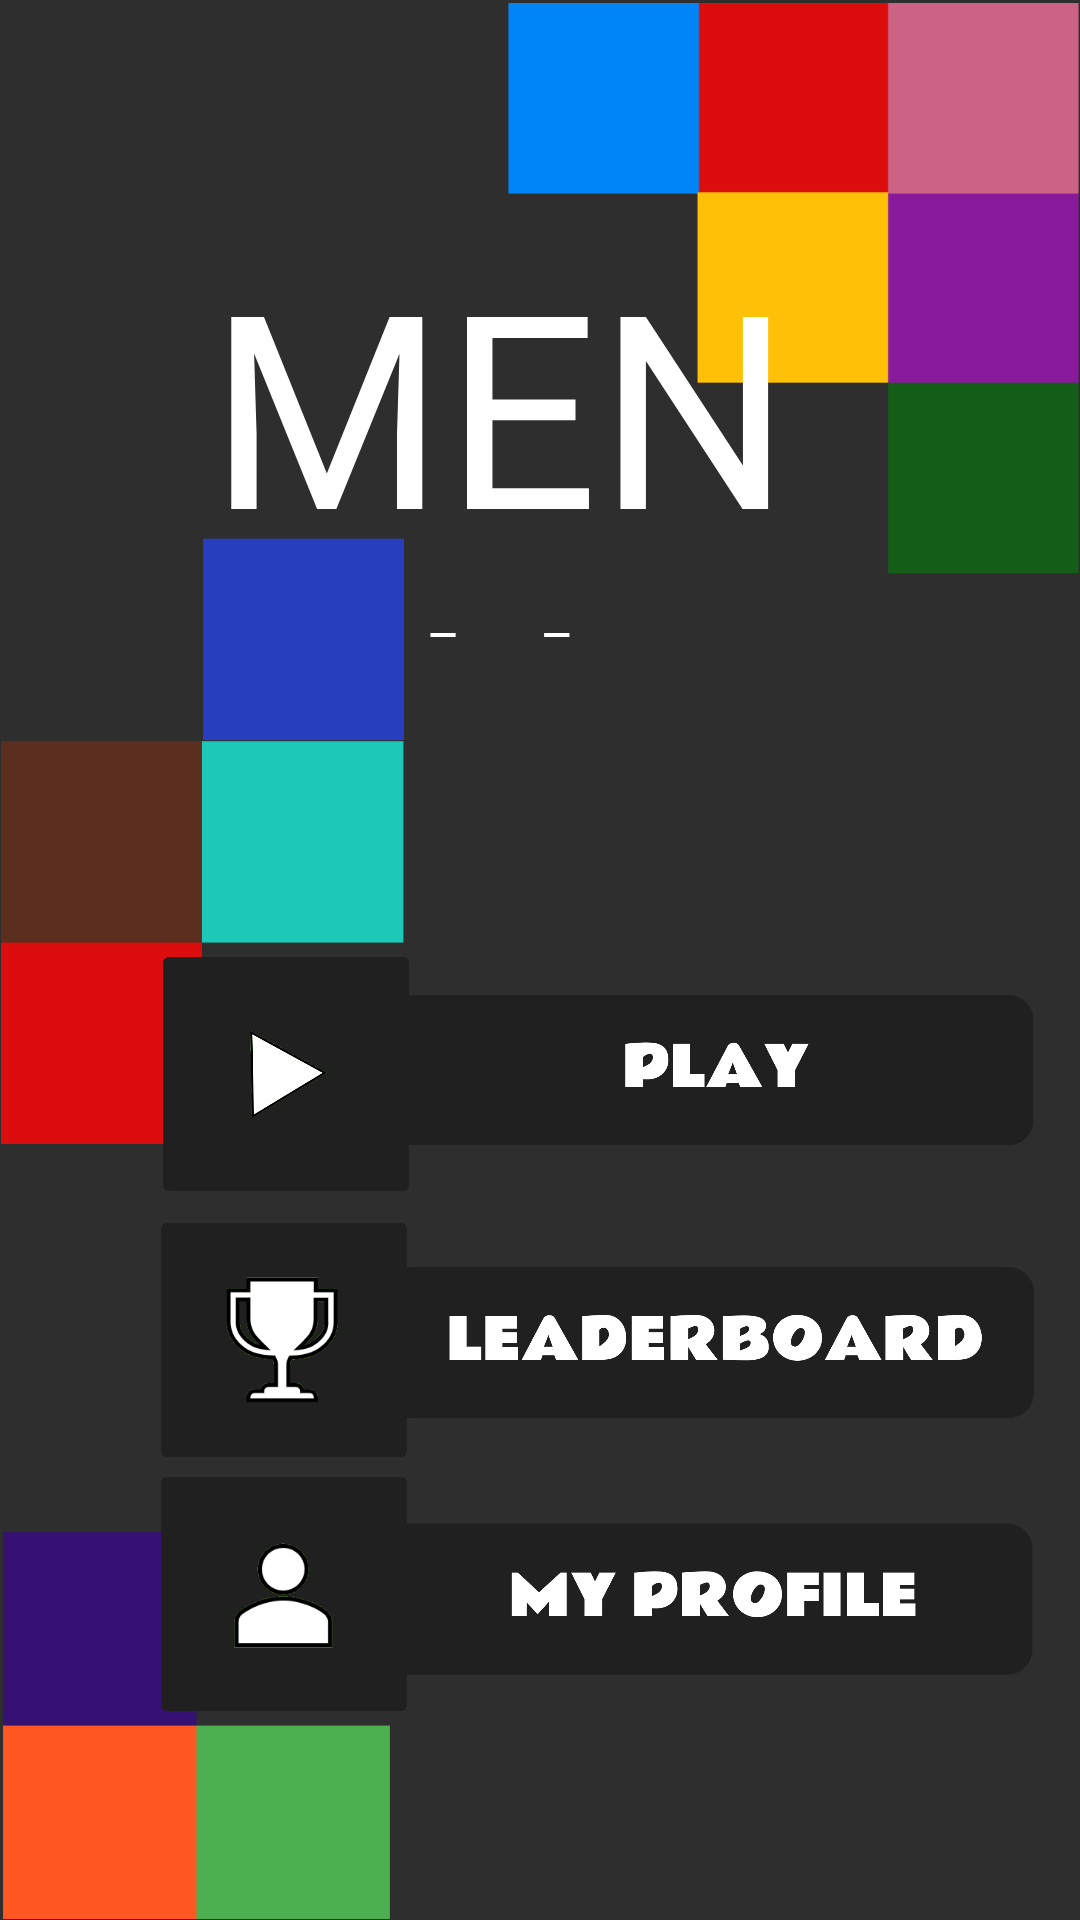

Icons on this 1080w x 1920h Android screen, each with the point to tap as (x=x, y=y):
leaderboardbtn: (x=282, y=1339)
playbtn: (x=286, y=1074)
profilebtn: (x=284, y=1594)
